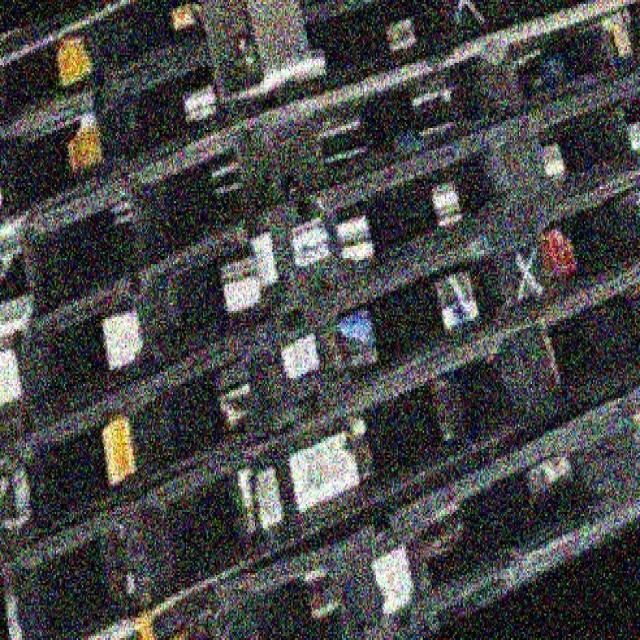igps: (3, 141, 640, 601), (6, 63, 640, 471), (0, 248, 640, 640), (17, 0, 640, 351), (73, 378, 640, 640), (0, 0, 640, 172)
